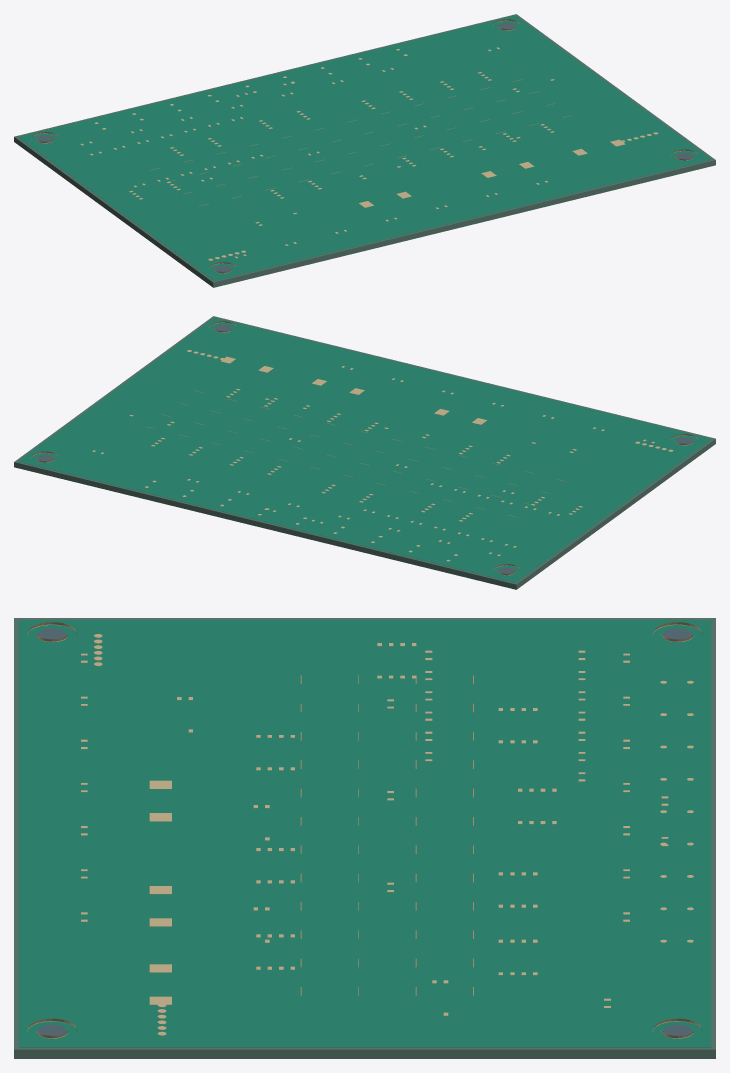
The model's file is 00_L97_VGR5_Empty_PCB_160x110mm.glb.
3 views of the same model, one above another, from view 1: azimuth 30°, elevation 25°; view 2: azimuth 150°, elevation 25°; view 3: azimuth 270°, elevation 25° (orthographic). The views are drawn at different scales.
Visible parts, largest first — view 1: top_soldermask_1, FR4_core_0; view 2: top_soldermask_1, FR4_core_0; view 3: top_soldermask_1, FR4_core_0.
Boxes of the visible parts, left/top/right/bottom form: top_soldermask_1: left=18, top=15, right=711, bottom=280; FR4_core_0: left=14, top=14, right=715, bottom=287; top_soldermask_1: left=18, top=317, right=711, bottom=582; FR4_core_0: left=14, top=316, right=715, bottom=589; top_soldermask_1: left=18, top=620, right=711, bottom=1047; FR4_core_0: left=14, top=618, right=715, bottom=1058.
Bounding box in the file's own units: 0.16 × 0.00245 × 0.11.
